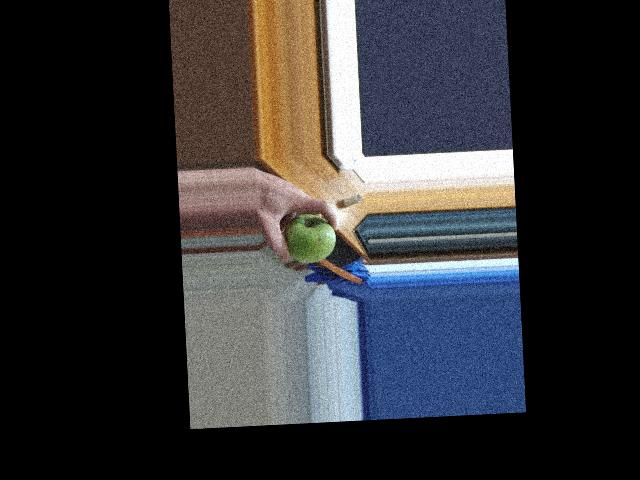apple: (281, 211, 339, 265)
